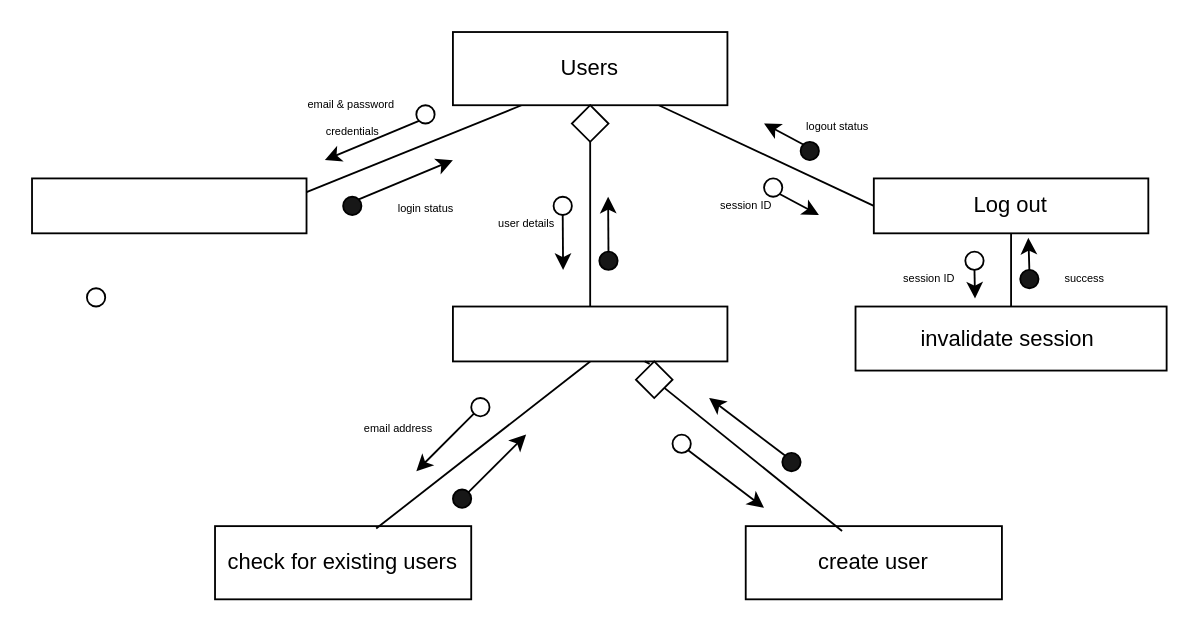
Some shapes in this 1199 by 631 pixel diagram are drawn without their labels. The box of each missing label's shape, as (x1, y1, x2, y2) in pixels:
Log in: (30, 177, 307, 233)
Register: (451, 305, 727, 361)
